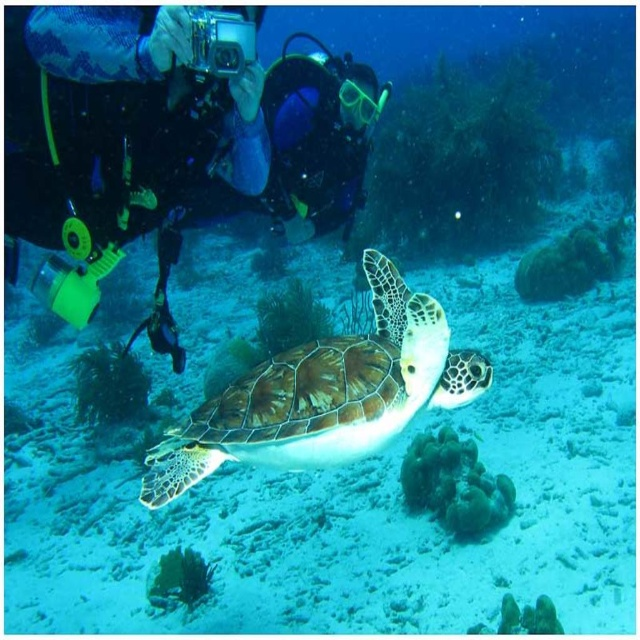Sea turtle: (138, 250, 490, 508)
